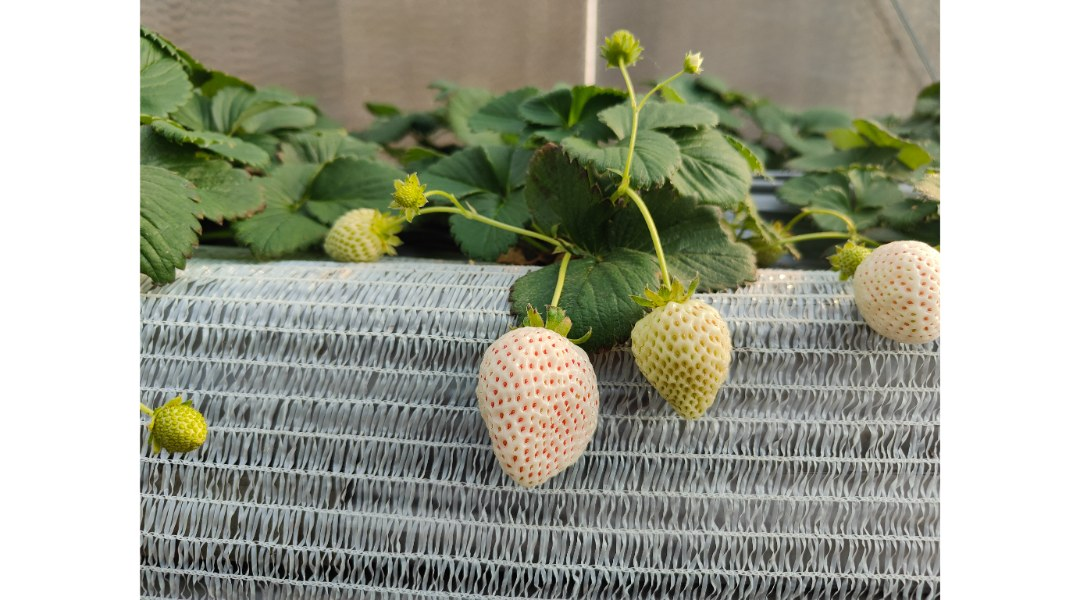berry: (474, 303, 598, 495), (628, 286, 748, 440), (842, 225, 968, 356), (116, 393, 233, 465), (312, 209, 399, 271), (592, 23, 659, 84)
strain: (637, 192, 683, 291), (459, 209, 562, 243), (550, 253, 576, 307), (627, 116, 637, 179)
